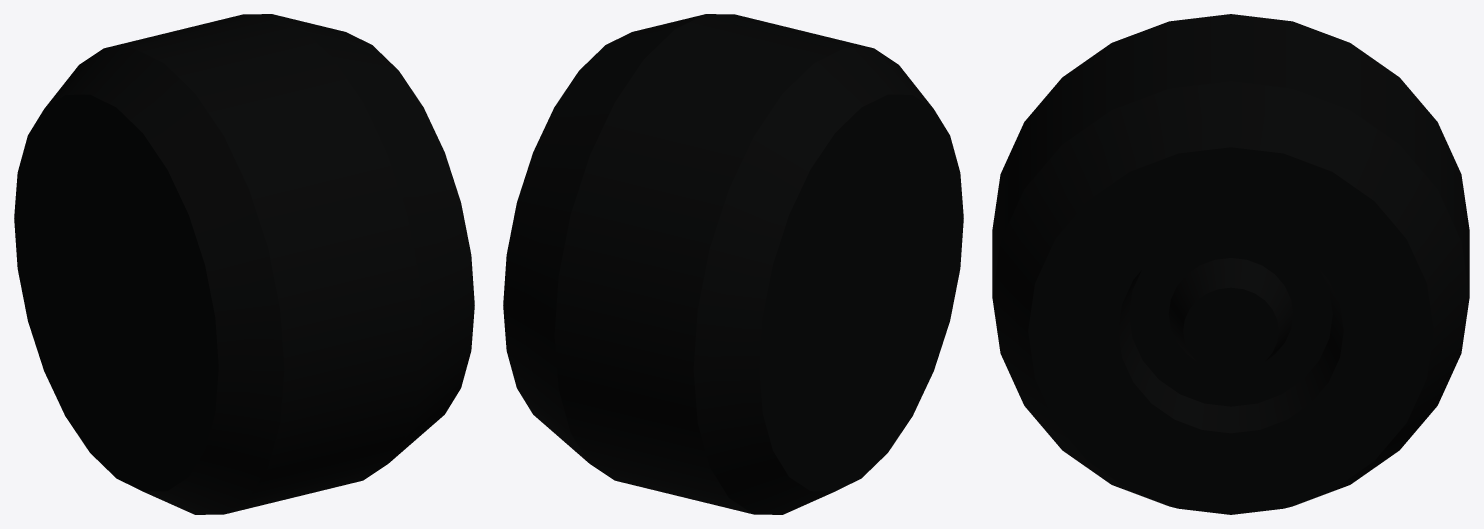
File: wheel-tractor-dark-back.glb
3 views of the same model, side by side, from view 1: azimuth 30°, elevation 25°; view 2: azimuth 150°, elevation 25°; view 3: azimuth 270°, elevation 25° (orthographic).
Visible parts, largest first — view 1: wheel-tractor-dark-back; view 2: wheel-tractor-dark-back; view 3: wheel-tractor-dark-back.
Part boxes in pixels (box(x1,y1,x2,y2)): wheel-tractor-dark-back: box(14, 14, 474, 514); wheel-tractor-dark-back: box(503, 14, 963, 514); wheel-tractor-dark-back: box(992, 14, 1469, 514).
Bounding box in the file's own units: 0.5374 × 0.8752 × 0.8752.
Materials: 1 (1 with a texture image).
